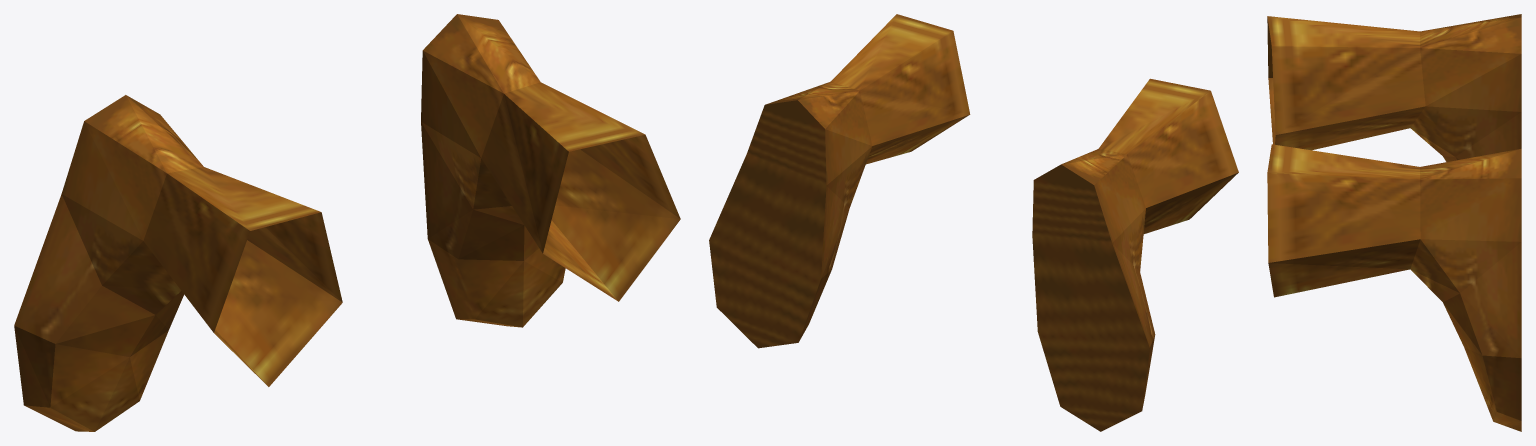
The model's file is priest_shoe_male_49500.obj.
3 renders of one model, left to right at view 1: azimuth 30°, elevation 25°; view 2: azimuth 150°, elevation 25°; view 3: azimuth 270°, elevation 25°, orthographic. The views are drawn at different scales.
Visible parts, largest first — view 1: priest_shoe_49500; view 2: priest_shoe_49500; view 3: priest_shoe_49500.
Part boxes in pixels (left/top/right/bottom): priest_shoe_49500: left=14, top=14, right=680, bottom=431; priest_shoe_49500: left=709, top=14, right=1238, bottom=431; priest_shoe_49500: left=1267, top=14, right=1521, bottom=431.
Size of the model in its own units: 27.3 by 15.26 by 13.35.
1 material, 1 textured.
